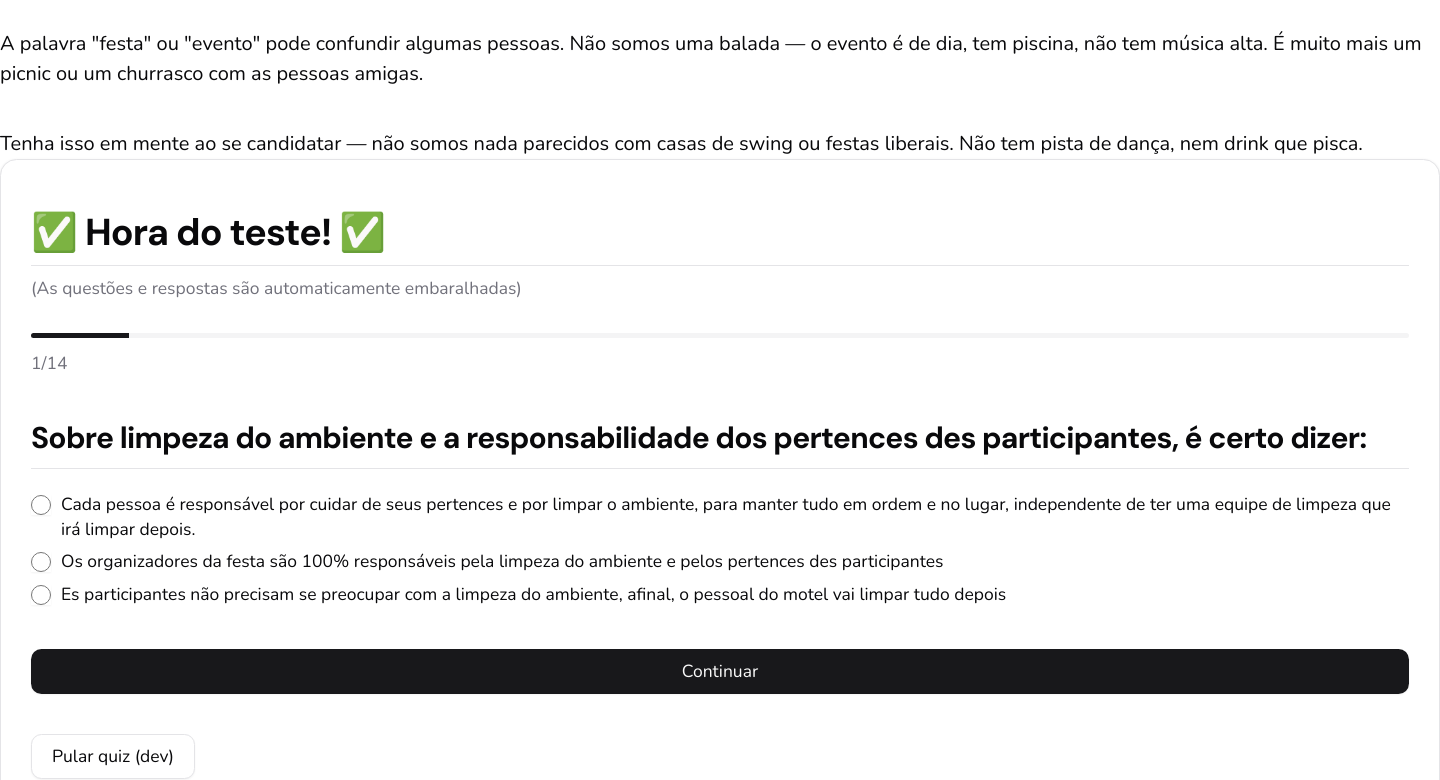
Test case: event-rules-page quiz › refuses to move on from a wrong answer, and says why
(page scrolled)
Click the radio button named "Es participantes não precisam se preocupar com a limpeza do ambiente, afinal, o pessoal do motel vai limpar tudo depois" at (41, 595), box [31,585,51,605]
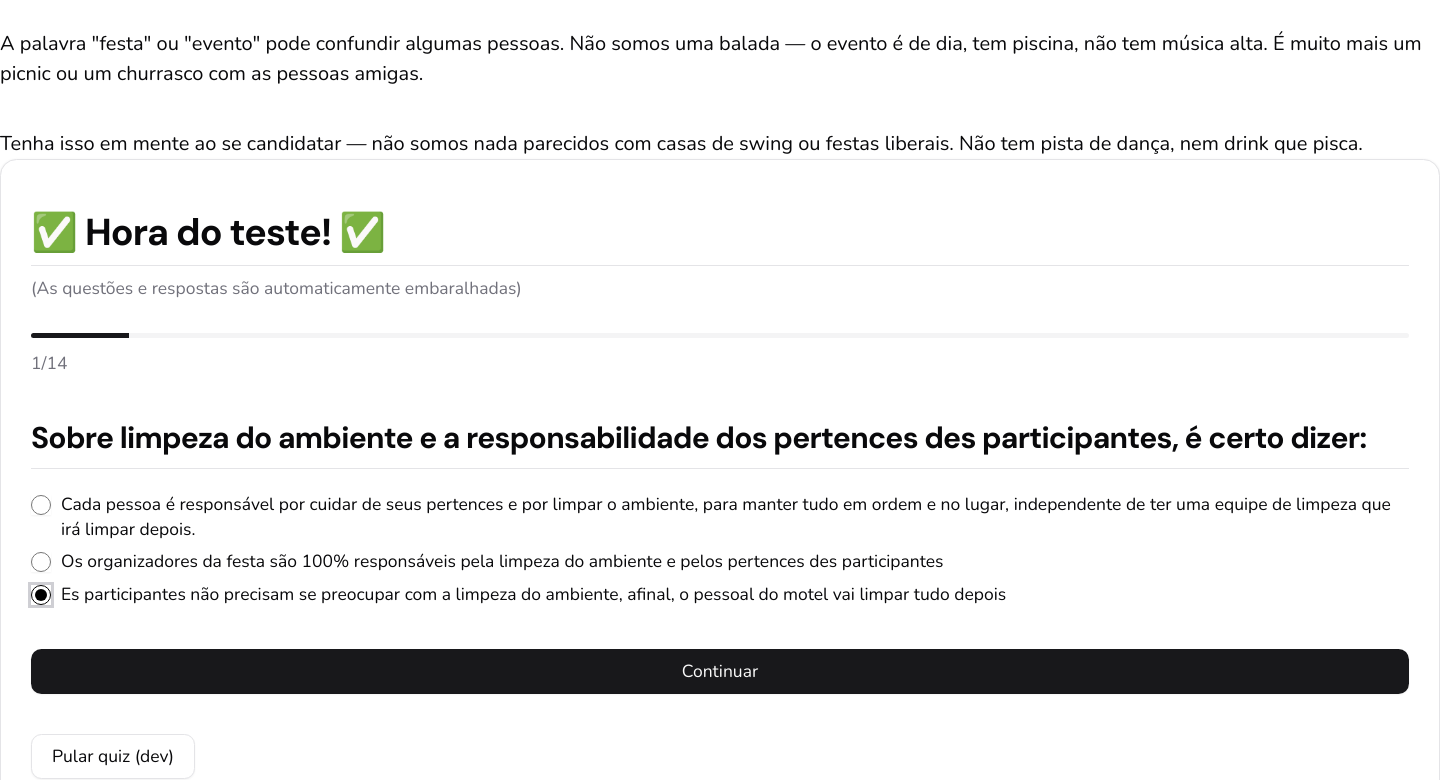
Click the button "Continuar" at (720, 672), box [31,649,1409,694]
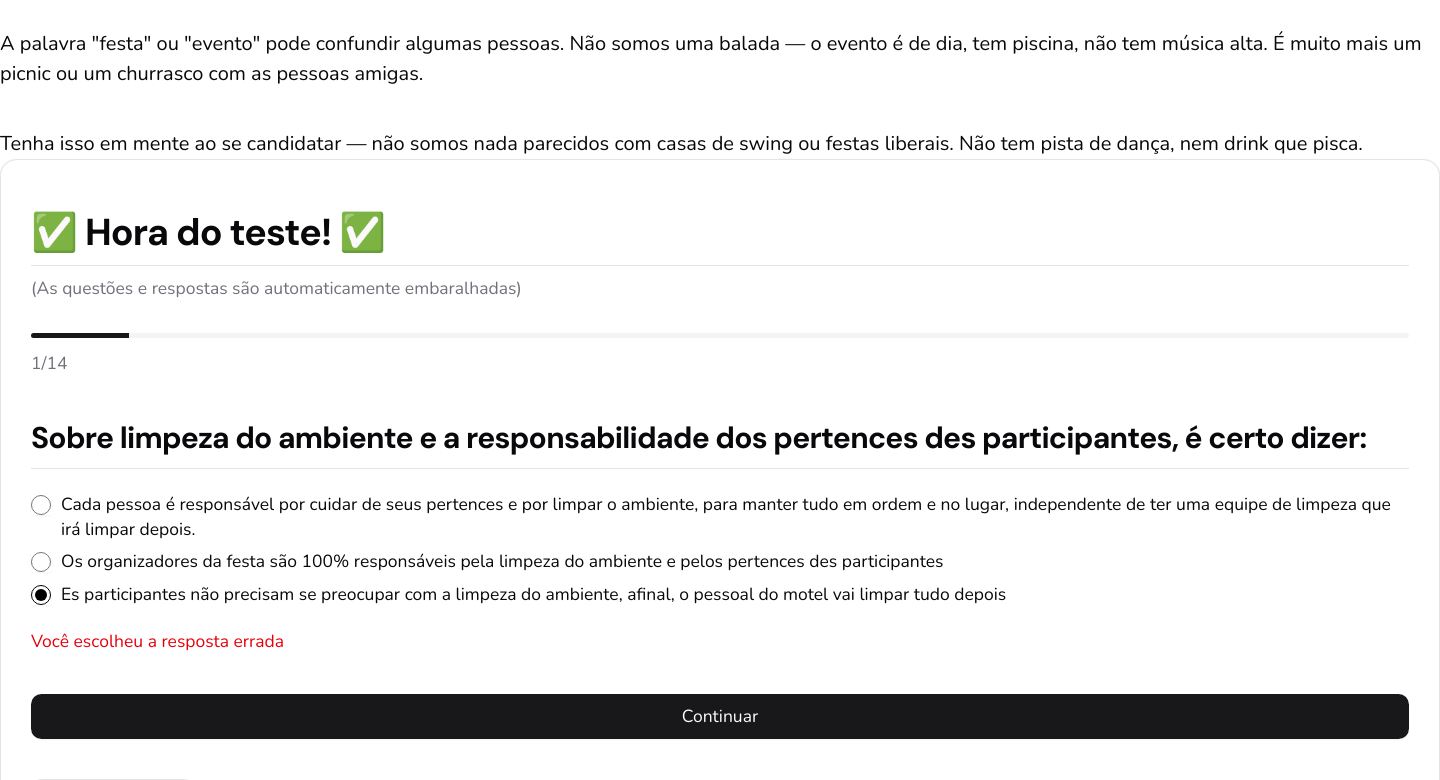
Expected: the text "Você escolheu a resposta errada" is shown, [31,629,284,653]
